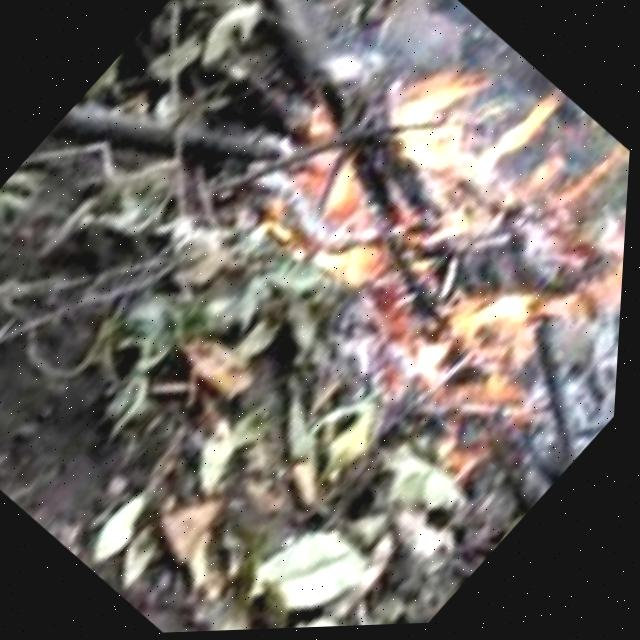Fire: (225, 0, 640, 473)
